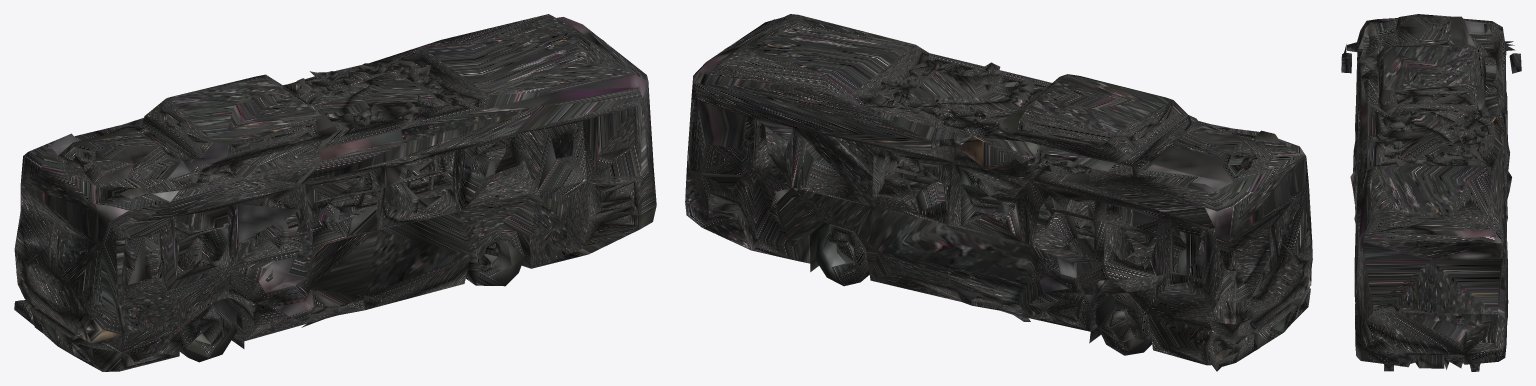
The model's file is wrecked-bus.glb.
3 renders of one model, left to right at view 1: azimuth 30°, elevation 25°; view 2: azimuth 150°, elevation 25°; view 3: azimuth 270°, elevation 25°, orthographic. The views are drawn at different scales.
Visible parts, largest first — view 1: output_unwrapped; view 2: output_unwrapped; view 3: output_unwrapped.
Part boxes in pixels (box(x1,y1,x2,y2)): output_unwrapped: box(14, 14, 656, 371); output_unwrapped: box(685, 14, 1312, 371); output_unwrapped: box(1341, 14, 1521, 371).
Size of the model in its own units: 1.9 by 0.6622 by 0.6281.
Materials: 1 (1 with a texture image).
